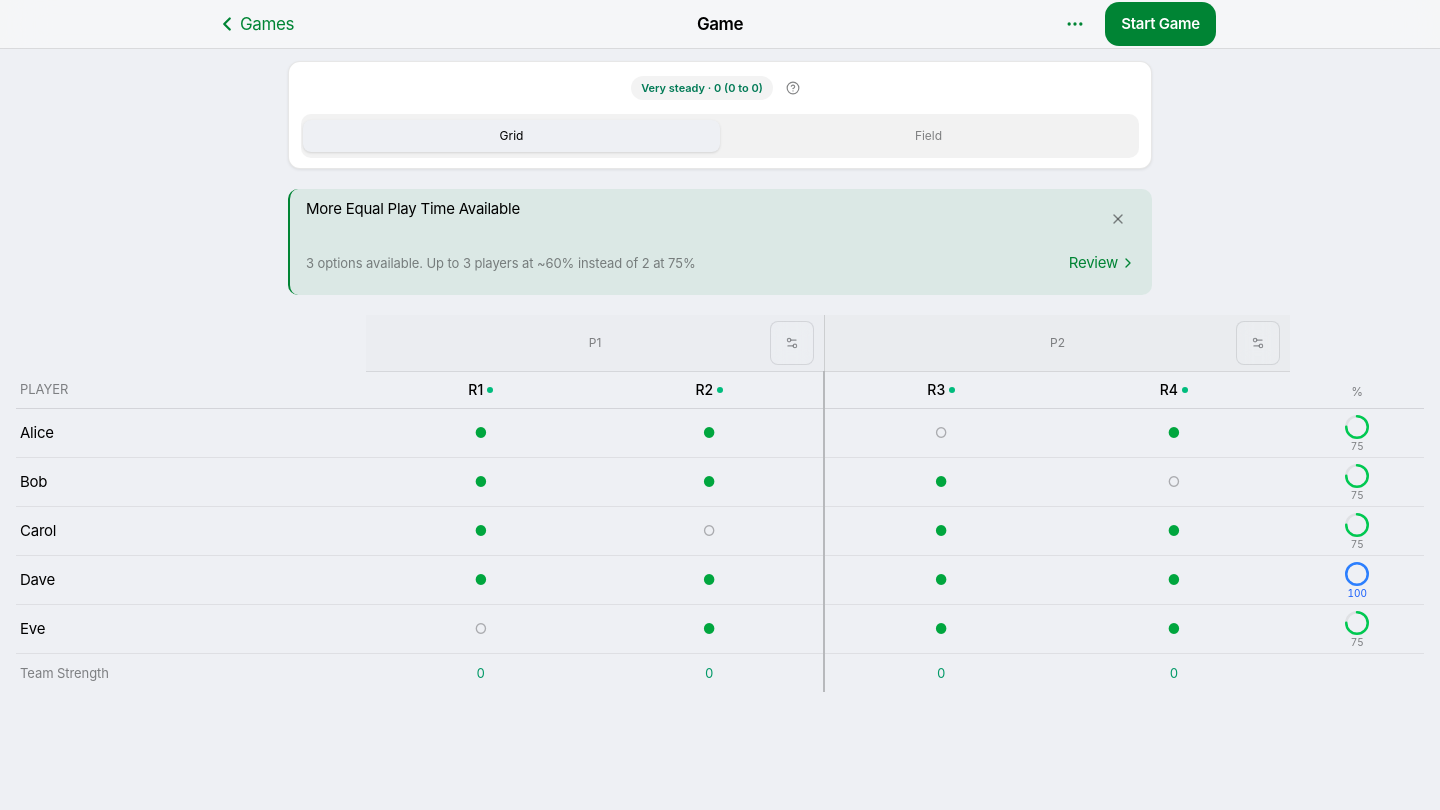
Test: RotationGrid › setup mode › hides larger optimization groups by default and reveals them on demand
This screenshot has width=1440, height=810.
Click the button "Review". click: x=1102, y=263
box: [1069, 241, 1136, 285]
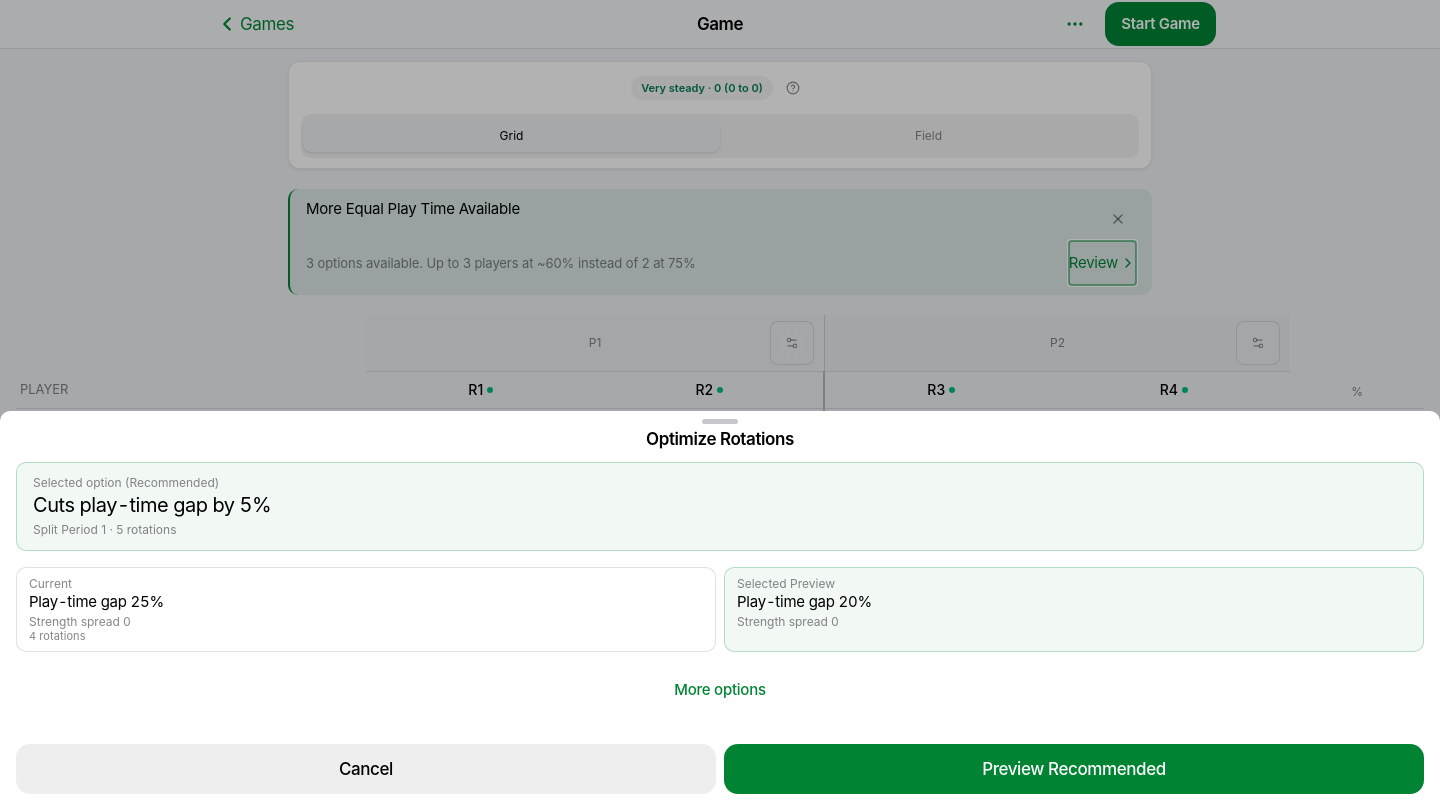
Check: the text "Change +1 rotations" is not shown
Check: the text "Change +2 rotations" is not shown
Click the button "More options". click: x=720, y=690
box: [16, 668, 1424, 712]
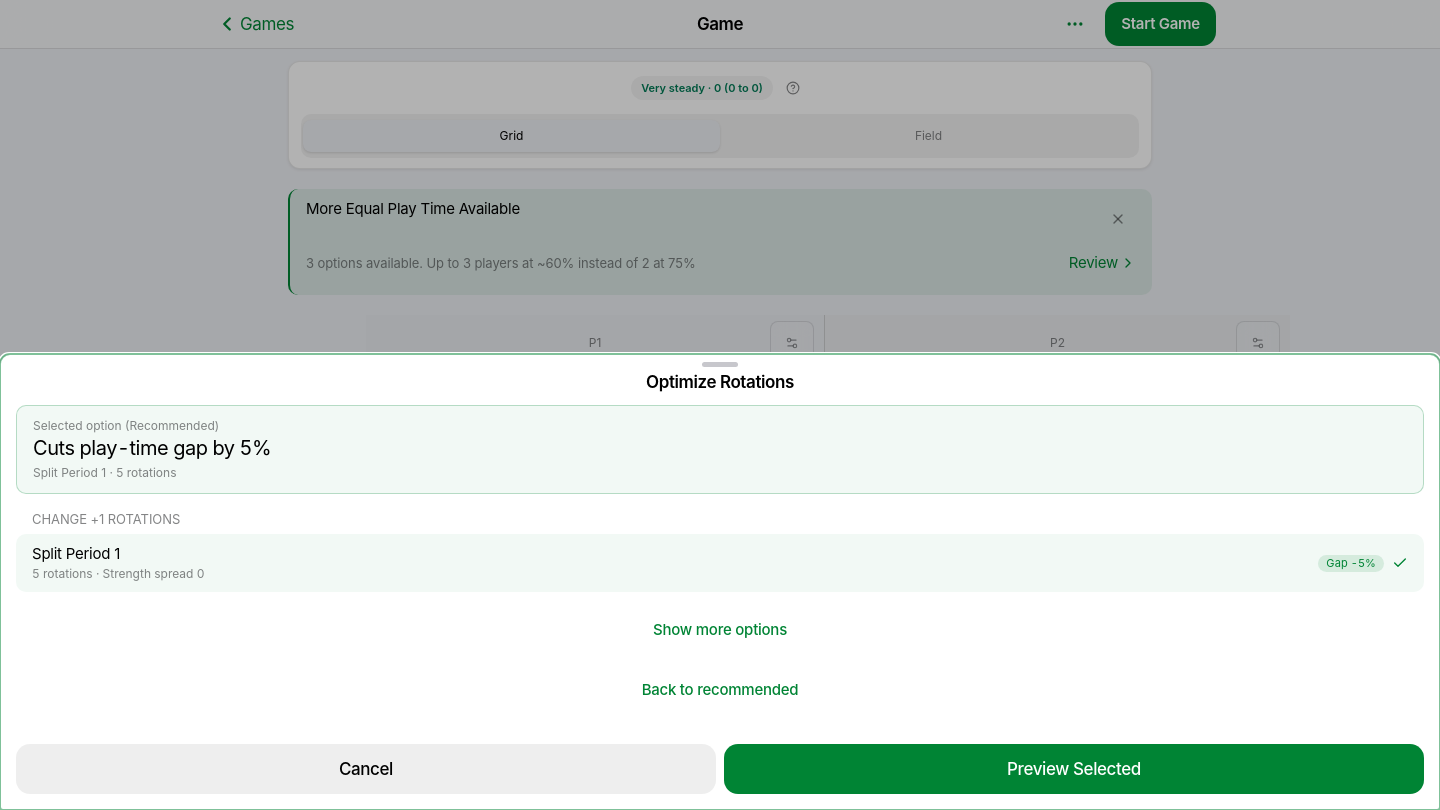
Check: the text "Change +2 rotations" is not shown
Check: the heading "Change +1 rotations" is shown, box [32, 511, 180, 527]
Click the button "Show more options". click: x=720, y=630
box: [16, 608, 1424, 652]
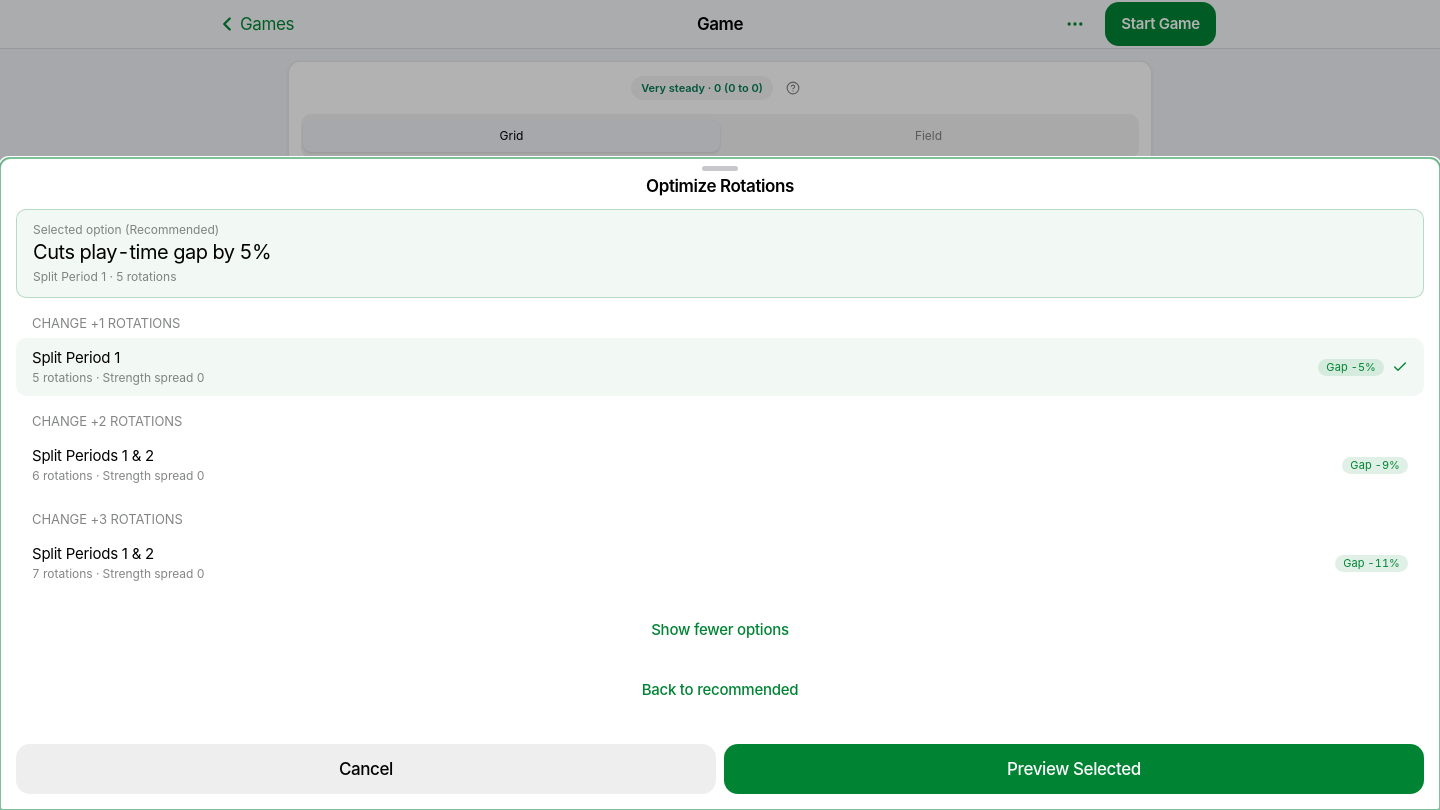
Check: the heading "Change +2 rotations" is shown, box [32, 413, 182, 429]
Check: the heading "Change +3 rotations" is shown, box [32, 511, 183, 527]
Check: the button "Show fewer options" is shown, box [16, 608, 1424, 652]
